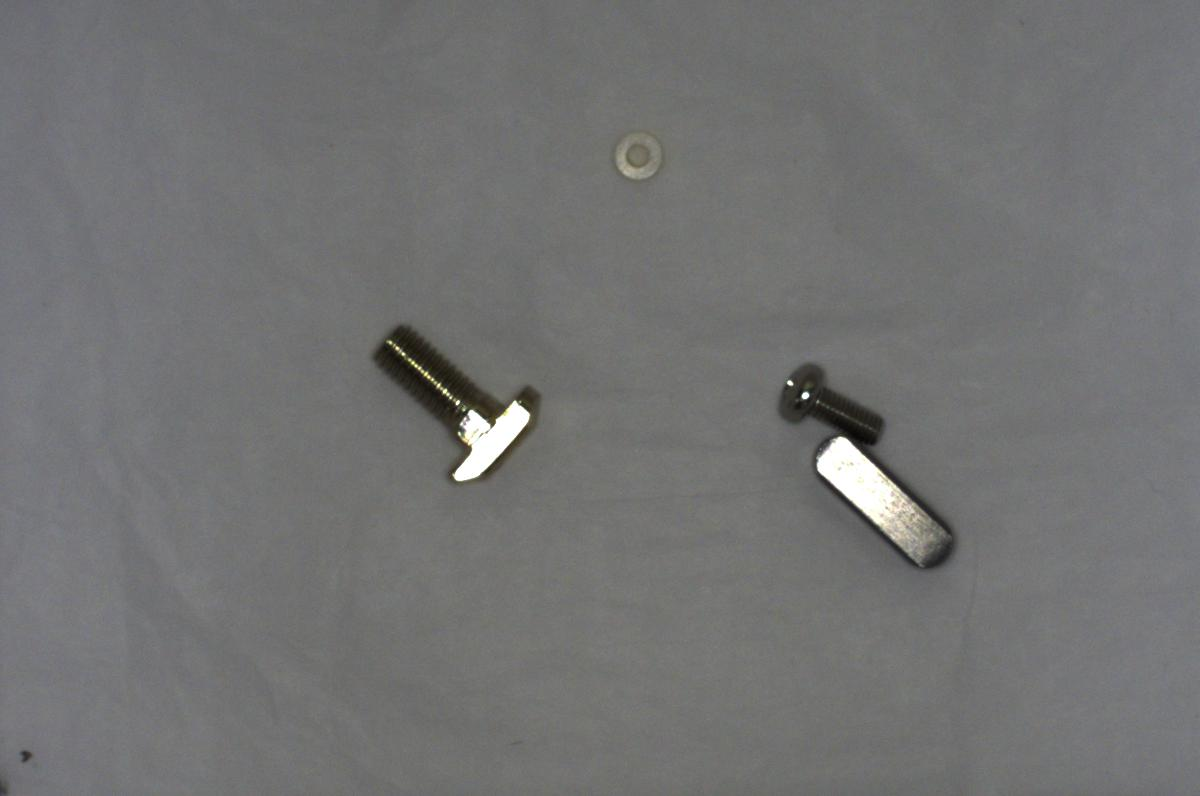Keybar: (808, 430, 955, 574)
Plastic cushion pillar: (604, 125, 672, 182)
Round head screw: (765, 358, 899, 450)
T-shaped screw: (359, 314, 545, 493)
